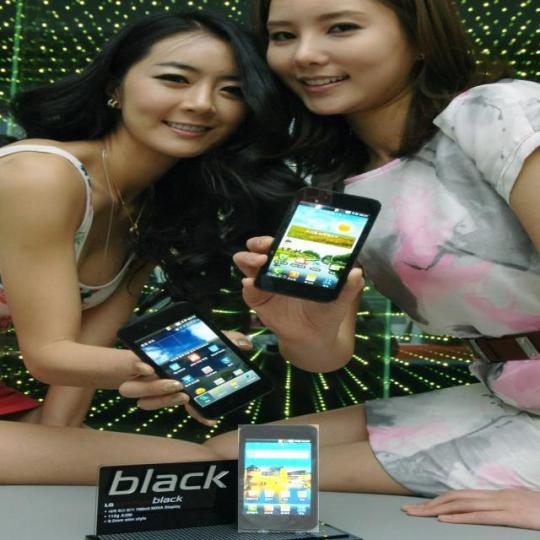phone: (109, 308, 273, 422), (258, 186, 385, 306), (237, 426, 320, 538)
